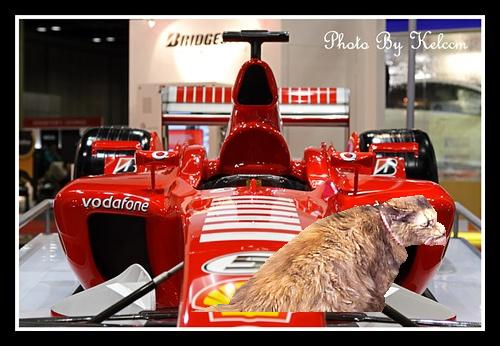tampered: (188, 196, 446, 312)
